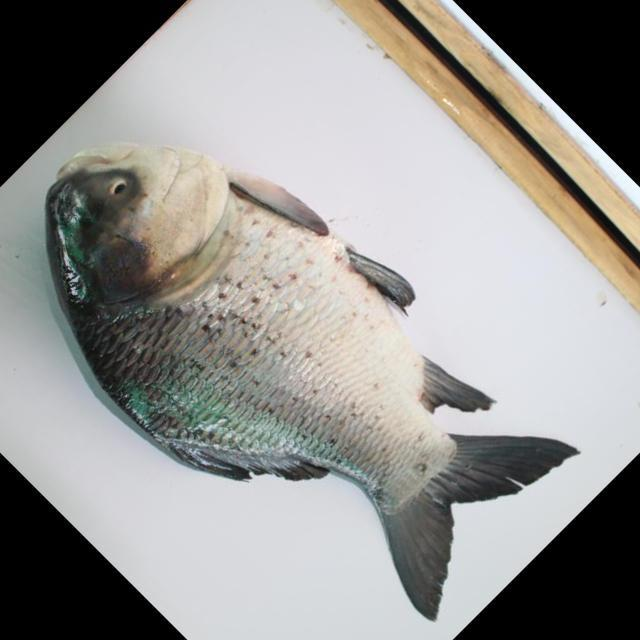Catla: (40, 144, 582, 615)
